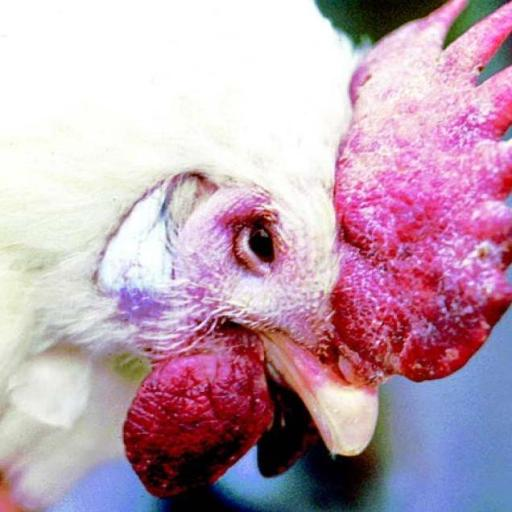disease: (337, 16, 512, 378), (210, 202, 305, 281)
